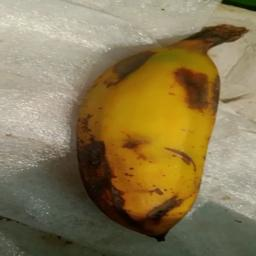Banana Semirotten: (73, 12, 250, 240)
